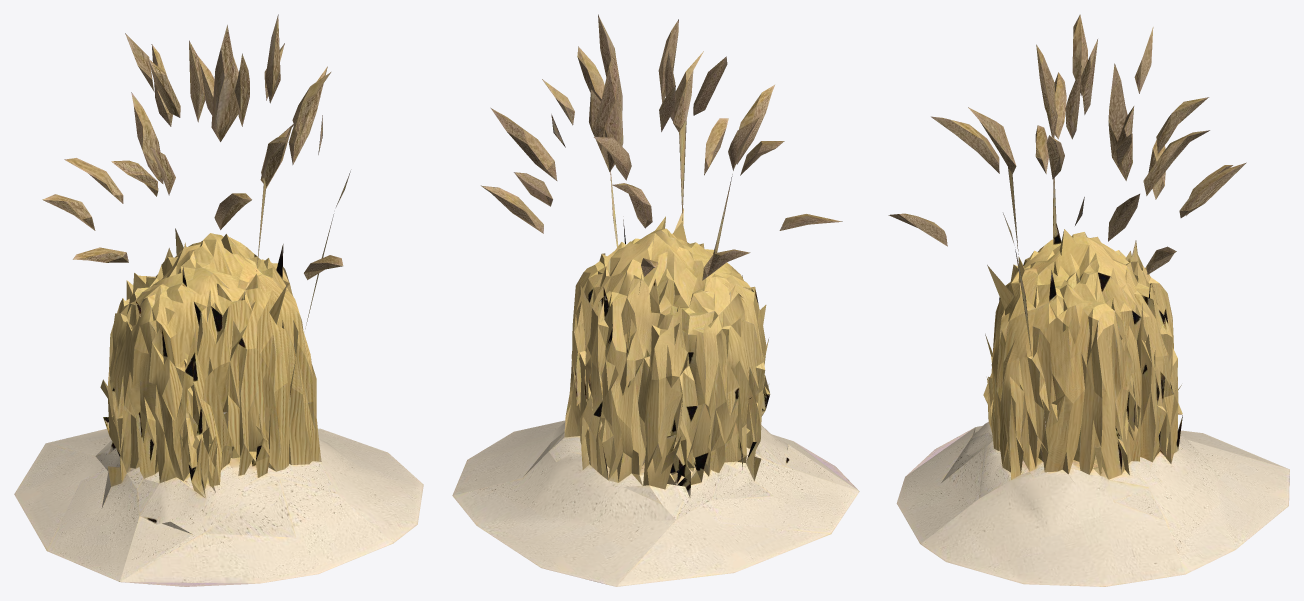
Rendered from grass-tussock.glb.
3 views of the same model, side by side, from view 1: azimuth 30°, elevation 25°; view 2: azimuth 150°, elevation 25°; view 3: azimuth 270°, elevation 25° (orthographic). The views are drawn at different scales.
Bounding box in the file's own units: 1.48 × 1.89 × 1.48.
Materials: 1 (1 with a texture image).
